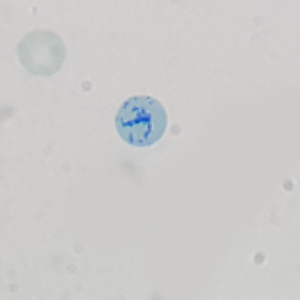aggregate reticulocyte: (113, 94, 170, 148)
erythrocyte: (15, 29, 67, 77)
